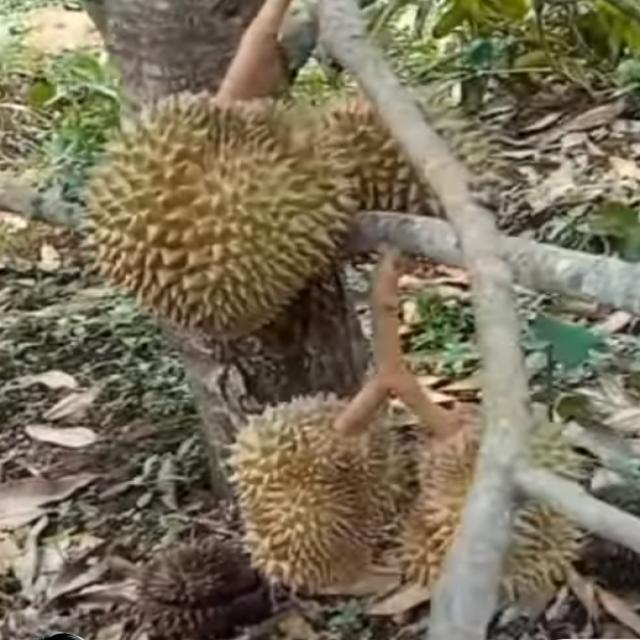defective: (135, 537, 289, 640)
mature: (87, 81, 352, 331), (231, 380, 405, 592)
